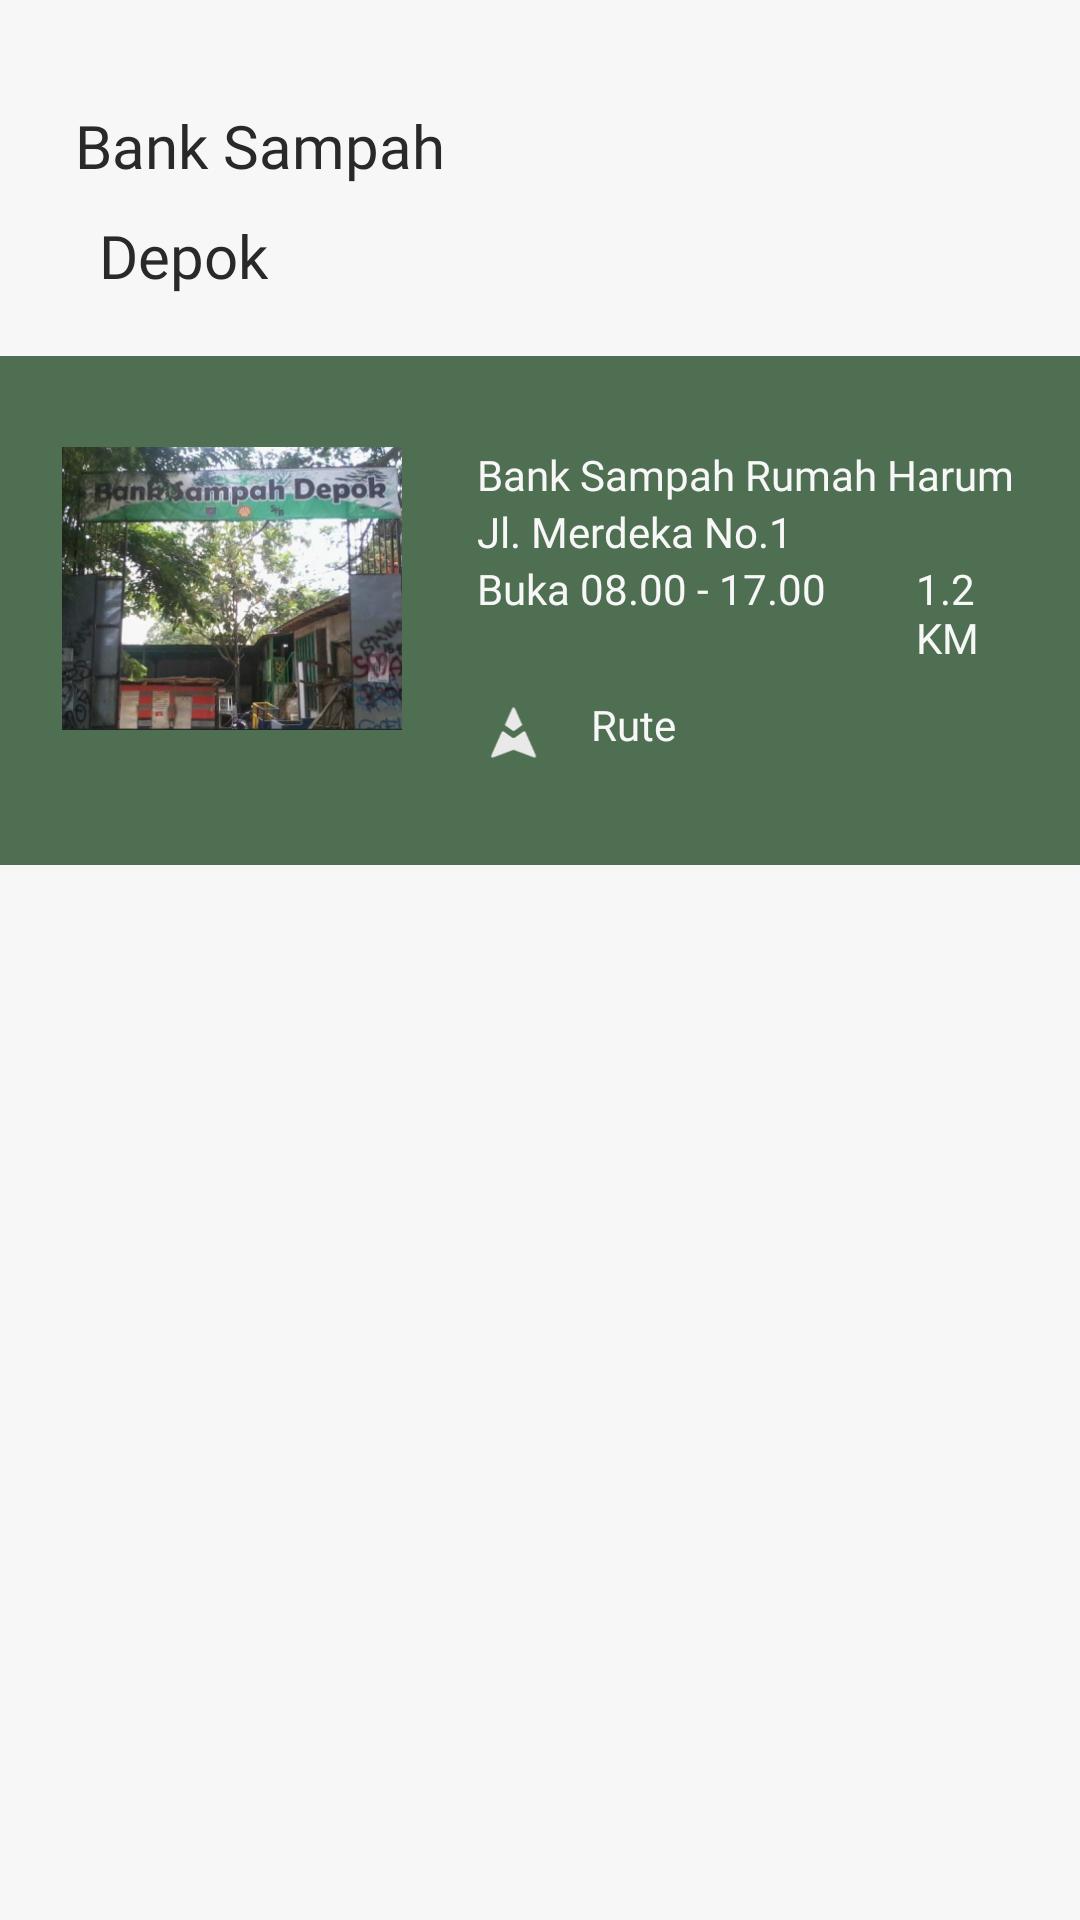

Where icons sit on this 1080 × 1920 app screen, as (x1, y1, x2, y2):
navigate: (491, 707, 536, 758)
